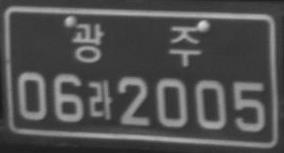0: (193, 78, 227, 131), (154, 77, 188, 128), (16, 70, 48, 122)
2: (116, 75, 151, 127)
5: (231, 79, 265, 132)
6: (52, 71, 85, 123)
광주_D: (71, 22, 201, 67)
라: (88, 78, 112, 120)
